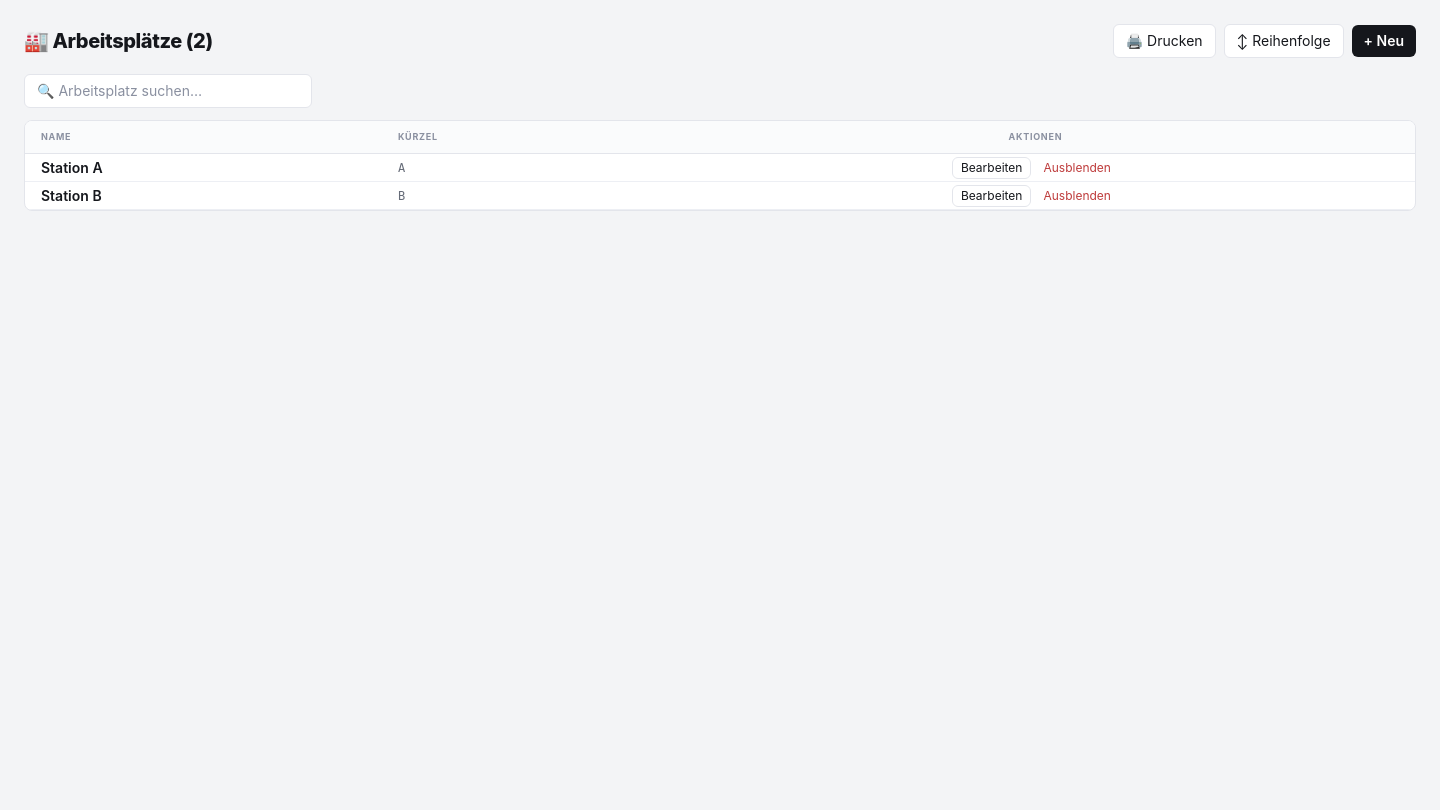
Workplaces page › create modal has no colour picker
Expected: the text "Station A" is shown, left=25, top=154, right=382, bottom=182
Click the button "+ Neu". click: (1384, 41)
box: left=1352, top=25, right=1416, bottom=57
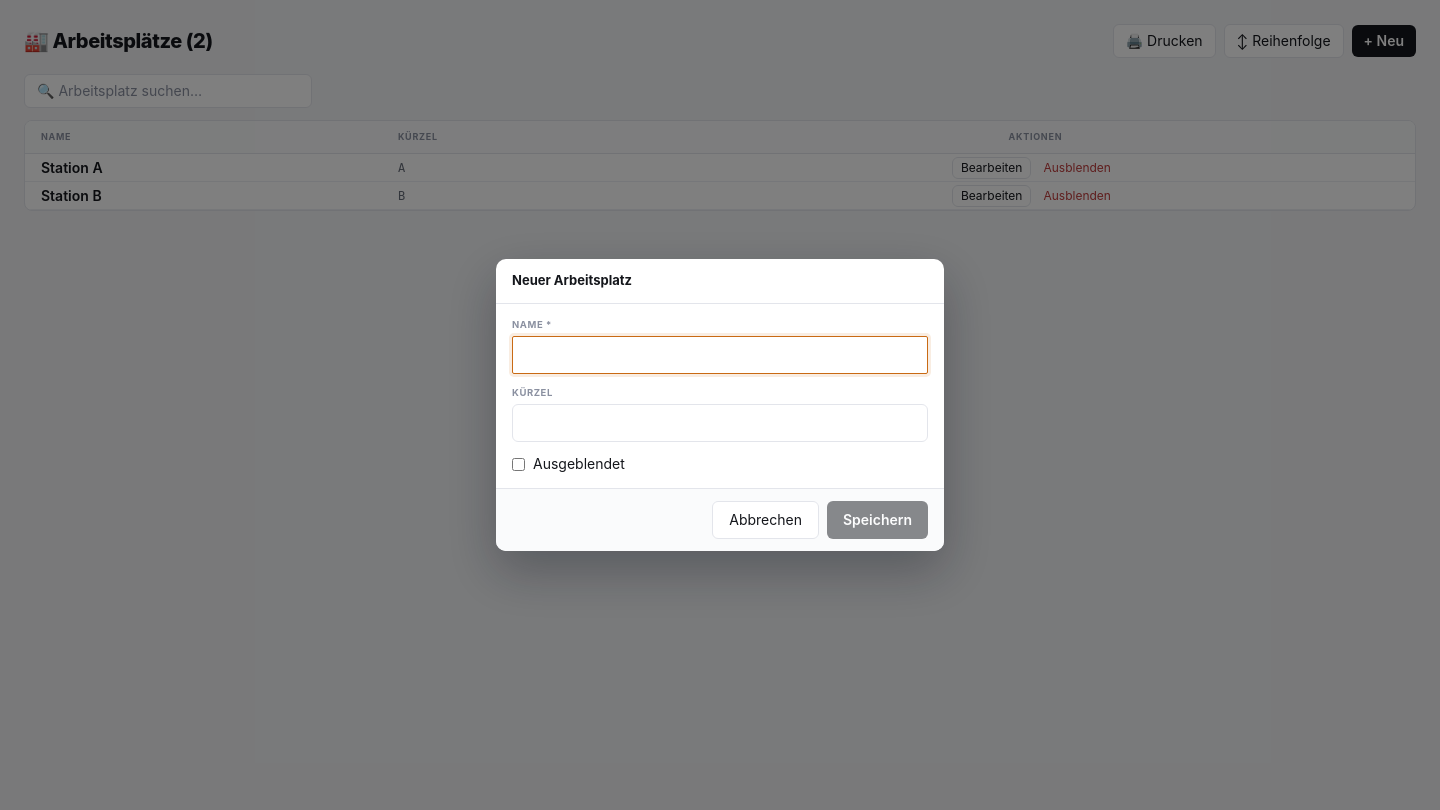
Result: the heading "Neuer Arbeitsplatz" is shown at left=496, top=259, right=944, bottom=304
